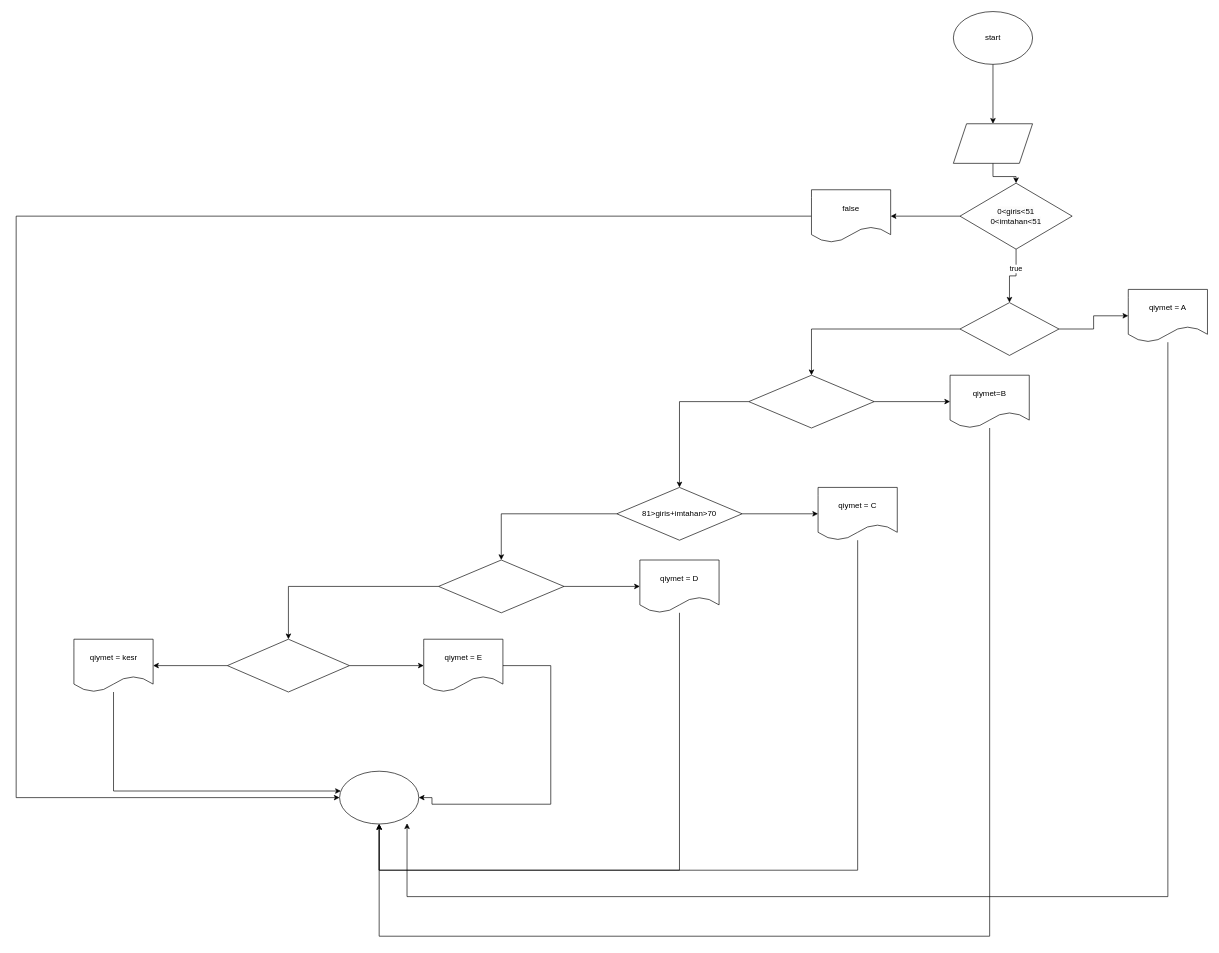
Some shapes in this 1219 by 953 pixel diagram are drawn without their labels. The centre of each missing label's shape, as x and y in pixels:
61>giris+imtahan>50: [288,665]
71>giris+imtahan>60: [501,586]
91>giris+imtahan>80: [811,401]
giris imtahan qiymet: [993,143]
giris+imtahan>90: [1009,328]
